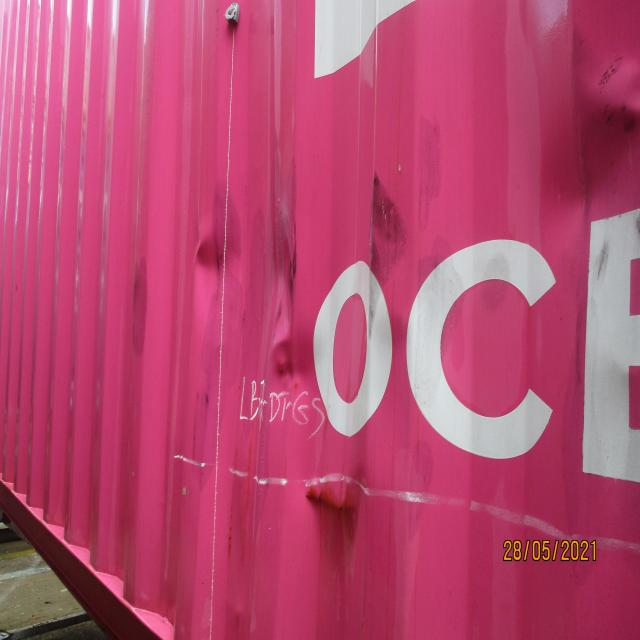dent: (501, 1, 640, 275), (255, 193, 304, 409), (295, 460, 392, 554), (188, 183, 241, 289)
